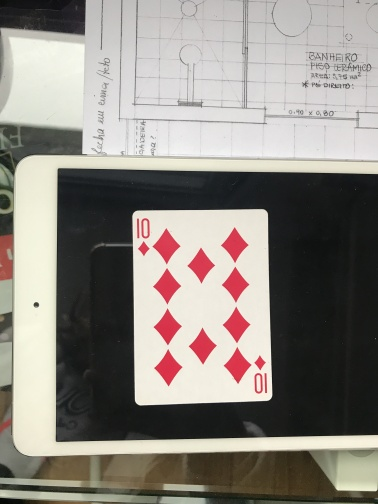ten: (129, 208, 275, 407)
